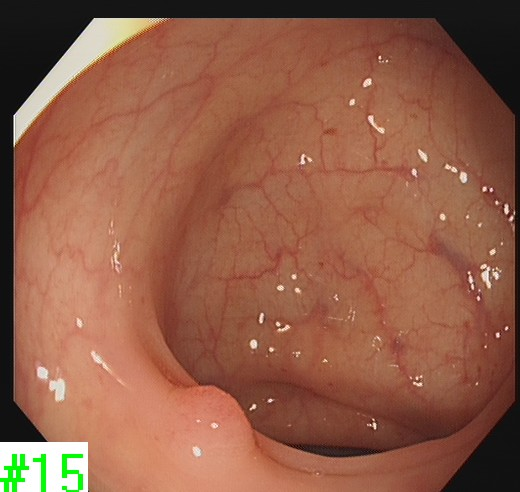adenoma: (168, 381, 262, 462)
